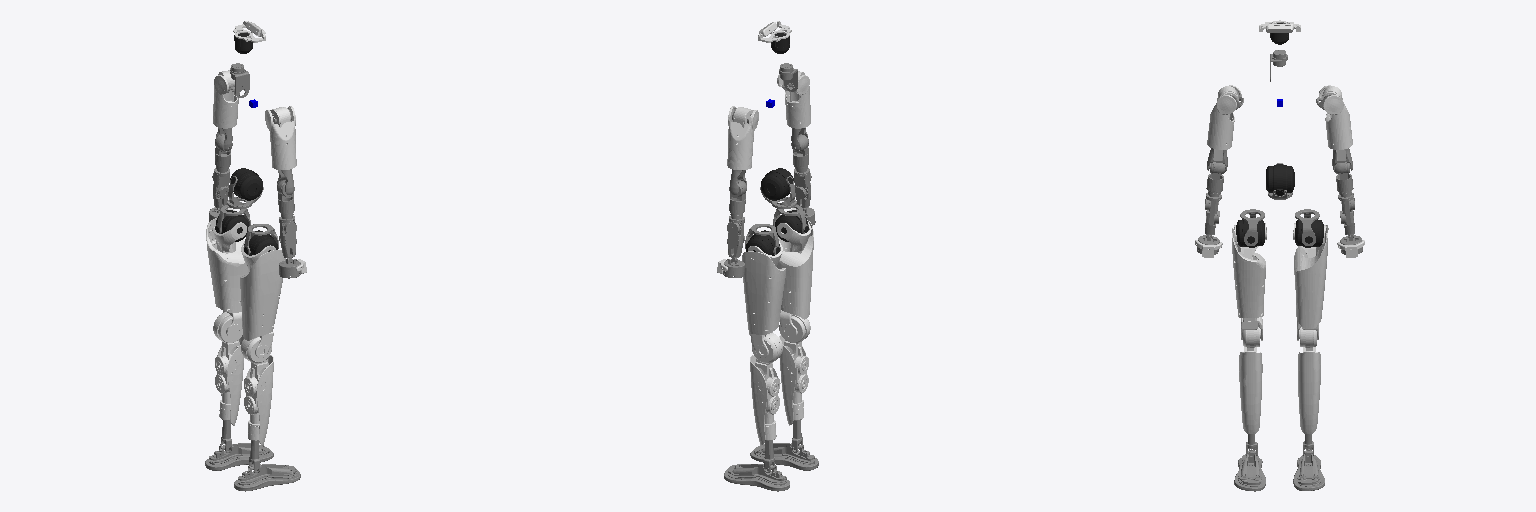
--- Render facts (derived) ---
The picture shows the robot from 3 angles, left to right: view 1: azimuth 30°, elevation 25°; view 2: azimuth 150°, elevation 25°; view 3: azimuth 270°, elevation 25°; orthographic projection.
Robot: t1pro — 39 links, 38 joints (23 revolute, 15 fixed); root link base_link; default pose: all joints at 0.
Links seen in each view (by area): view 1: leg_right_hip_pitch_link, leg_left_hip_pitch_link, leg_left_knee_link, leg_right_knee_link, arm_right_shoulder_roll_link, leg_right_ankle_pitch_link, arm_left_shoulder_roll_link, leg_left_ankle_pitch_link, torso_roll_link, arm_right_wrist_roll_link, arm_left_wrist_roll_link; view 2: leg_left_hip_pitch_link, leg_right_hip_pitch_link, leg_left_knee_link, leg_right_knee_link, arm_left_shoulder_roll_link, leg_left_ankle_pitch_link, arm_right_shoulder_roll_link, leg_right_ankle_pitch_link, torso_roll_link, arm_left_wrist_roll_link, arm_right_wrist_roll_link; view 3: leg_left_hip_pitch_link, leg_right_hip_pitch_link, leg_right_knee_link, leg_left_knee_link, arm_right_shoulder_roll_link, arm_left_shoulder_roll_link, leg_right_ankle_pitch_link, leg_left_ankle_pitch_link, torso_roll_link, arm_left_wrist_roll_link, arm_right_wrist_roll_link.
Boxes of the visible links, <box> form: leg_right_hip_pitch_link: <box>240,241,285,357</box>; leg_left_hip_pitch_link: <box>206,218,249,338</box>; leg_left_knee_link: <box>213,312,243,425</box>; leg_right_knee_link: <box>241,337,273,445</box>; arm_right_shoulder_roll_link: <box>265,106,296,169</box>; leg_right_ankle_pitch_link: <box>234,464,300,491</box>; arm_left_shoulder_roll_link: <box>213,70,238,128</box>; leg_left_ankle_pitch_link: <box>205,443,273,470</box>; torso_roll_link: <box>230,168,262,200</box>; arm_right_wrist_roll_link: <box>279,212,296,261</box>; arm_left_wrist_roll_link: <box>212,154,230,210</box>; leg_left_hip_pitch_link: <box>742,241,785,357</box>; leg_right_hip_pitch_link: <box>777,220,813,338</box>; leg_left_knee_link: <box>750,333,782,445</box>; leg_right_knee_link: <box>779,315,810,425</box>; arm_left_shoulder_roll_link: <box>727,106,758,169</box>; leg_left_ankle_pitch_link: <box>724,464,789,491</box>; arm_right_shoulder_roll_link: <box>777,71,810,128</box>; leg_right_ankle_pitch_link: <box>750,443,818,470</box>; torso_roll_link: <box>761,168,793,200</box>; arm_left_wrist_roll_link: <box>727,212,744,261</box>; arm_right_wrist_roll_link: <box>793,154,811,210</box>; leg_left_hip_pitch_link: <box>1293,223,1328,340</box>; leg_right_hip_pitch_link: <box>1232,223,1266,340</box>; leg_right_knee_link: <box>1239,327,1262,433</box>; leg_left_knee_link: <box>1298,327,1320,433</box>; arm_right_shoulder_roll_link: <box>1207,85,1241,149</box>; arm_left_shoulder_roll_link: <box>1319,85,1352,149</box>; leg_right_ankle_pitch_link: <box>1234,449,1265,491</box>; leg_left_ankle_pitch_link: <box>1293,449,1324,490</box>; torso_roll_link: <box>1266,164,1294,195</box>; arm_left_wrist_roll_link: <box>1337,188,1354,237</box>; arm_right_wrist_roll_link: <box>1205,188,1222,237</box>.
Bounding box of the posed robot: 0.2391 × 0.5452 × 1.6 m (x, y, z).
35 mesh visuals loaded from 38 distinct referenced files (35 binary STL); not drawn: 3 (reference not matched to a file when rendering).

robot.urdf — t1pro:
<?xml version="1.0" encoding="utf-8"?>

<robot name="t1pro">
  <material name="dark">
    <color rgba="0.2 0.2 0.2 1"/>
  </material>
  <material name="grey">
    <color rgba="0.6 0.6 0.6 1"/>
  </material>
  <material name="white">
    <color rgba="0.9 0.9 0.9 1"/>
  </material>

  <mujoco>
    <compiler meshdir="./meshes" discardvisual="false"/>
  </mujoco>

  <!--MUJOCO USE -->
  <!-- <link name="world"></link>
  <joint name="floating_base_joint" type="floating">
    <parent link="world"/>
    <child link="base_link"/>
  </joint> -->

<!-- link -->
  <link name="base_link">
    <inertial>
      <origin xyz="-0.01294606 -0.00133000 -0.00906342"/>
      <mass value="0.84000000"/>
      <inertia ixx="0.00397778" ixy="-0.00000002" ixz="-0.00001804" iyy="0.00275082" iyz="-0.00000002" izz="0.00472688"/>
    </inertial>
    <visual>
      <origin
        xyz="0 0 0"
        rpy="0 0 0" />
      <geometry>
        <mesh
          filename="./meshes/base_link.STL" />
      </geometry>
      <material name="white"/>
    </visual>
    <collision>
      <origin xyz="-0.035 0 0.017" rpy="1.57 0 0" /> 
      <geometry>
        <cylinder radius="0.025" length="0.25" />
      </geometry>
    </collision>
    <collision>
      <origin xyz="0.015 0 0.017" rpy="1.57 0 0" />
      <geometry>
        <cylinder radius="0.025" length="0.25" />
      </geometry>
    </collision>
    <collision>
      <origin xyz="-0.1 0.05 -0.005" rpy="0 0.3 0" />
      <geometry>
        <cylinder radius="0.03" length="0.1" />
      </geometry>
    </collision>
    <collision>
      <origin xyz="-0.1 -0.05 -0.005" rpy="0 0.3 0" />
      <geometry>
        <cylinder radius="0.03" length="0.1" />
      </geometry>
    </collision>
  </link>
 
  <link name="leg_left_hip_yaw_link">
    <inertial>
      <origin xyz="-0.00846627 0.00122011 -0.03373881"/>
      <mass value="0.11000000"/>
      <inertia ixx="0.00008206" ixy="-0.00000036" ixz="0.00000426" iyy="0.00014187" iyz="0.00000462" izz="0.00011593"/>
    </inertial>
    <visual>
      <origin
        xyz="0 0 0"
        rpy="0 0 0" />
      <geometry>
        <mesh
          filename="./meshes/leg_left_hip_yaw_link.STL" />
      </geometry>
      <material name="grey"/>
    </visual>
  </link>

  <link name="leg_left_hip_roll_link">
    <inertial>
      <origin xyz="0.00510741 -0.00001115 0.00001626"/>
      <mass value="2.45000000"/>
      <inertia ixx="0.00259256" ixy="-0.00000000" ixz="-0.00000000" iyy="0.00271310" iyz="-0.00000019" izz="0.00288499"/>
    </inertial>
    <visual>
      <origin
        xyz="0 0 0"
        rpy="0 0 0" />
      <geometry>
        <mesh
          filename="./meshes/leg_left_hip_roll_link.STL" />
      </geometry>
      <material name="dark"/>
    </visual>
    <collision>
      <origin
        xyz="0 0 0"
        rpy="0 0 0" />
      <geometry>
        <mesh
          filename="./meshes/leg_left_hip_roll_link.STL" />
      </geometry>
    </collision>
  </link>

  <link name="leg_left_hip_pitch_link">
    <inertial>
      <origin xyz="-0.01262975 0.01047040 -0.19123618"/>
      <mass value="0.88000000"/>
      <inertia ixx="0.01011408" ixy="0.00000040" ixz="0.00011303" iyy="0.01029143" iyz="0.00027531" izz="0.00150262"/>
    </inertial>
    <visual>
      <origin
        xyz="0 0 0"
        rpy="0 0 0" />
      <geometry>
        <mesh
          filename="./meshes/leg_left_hip_pitch_link.STL" />
      </geometry>
      <material name="white"/>
    </visual>
    <collision>
      <origin
        xyz="0 0 0"
        rpy="0 0 0" />
      <geometry>
        <mesh
          filename="./meshes/leg_left_hip_pitch_link.STL" />
      </geometry>
    </collision>
  </link>

  <link name="leg_left_knee_link">
    <inertial>
      <origin xyz="-0.00230509 0.00889453 -0.14517248"/>
      <mass value="4.07000000"/>
      <inertia ixx="0.04167356" ixy="-0.00005472" ixz="0.00253367" iyy="0.04272837" iyz="0.00044712" izz="0.00381187"/>
    </inertial>
    <visual>
      <origin
        xyz="0 0 0"
        rpy="0 0 0" />
      <geometry>
        <mesh
          filename="./meshes/leg_left_knee_link.STL" />
      </geometry>
      <material name="white"/>
    </visual>
    <collision>
      <origin
        xyz="0 0 0"
        rpy="0 0 0" />
      <geometry>
        <mesh
          filename="./meshes/leg_left_knee_link.STL" />
      </geometry>
    </collision>
  </link>
  
  <link name="leg_left_ankle_yaw_link">
    <inertial>
      <origin xyz="0.00013550 0.00001226 -0.06277698"/>
      <mass value="0.12000000"/>
      <inertia ixx="0.00014840" ixy="-0.00000000" ixz="0.00000000" iyy="0.00014447" iyz="0.00000000" izz="0.00002295"/>
    </inertial>
    <visual>
      <origin
        xyz="0 0 0"
        rpy="0 0 0" />
      <geometry>
        <mesh
          filename="./meshes/leg_left_ankle_yaw_link.STL" />
      </geometry>
      <material name="grey"/>
    </visual>
    <collision>
      <origin
        xyz="0 0 0"
        rpy="0 0 0" />
      <geometry>
        <mesh
          filename="./meshes/leg_left_ankle_yaw_link.STL" />
      </geometry>
    </collision>
  </link>

  <link name="leg_left_ankle_roll_link">
    <inertial>
      <origin xyz="-0.00000060 0.00000665 0.00000251"/>
      <mass value="0.01000000"/>
      <inertia ixx="0.00000053" ixy="-0.00000000" ixz="0.00000000" iyy="0.00000053" iyz="0.00000000" izz="0.00000085"/>
    </inertial>
    <visual>
      <origin
        xyz="0 0 0"
        rpy="0 0 0" />
      <geometry>
        <mesh
          filename="./meshes/leg_left_ankle_roll_link.STL" />
      </geometry>
      <material name="grey"/>
    </visual>
  </link>

  <link name="leg_left_ankle_pitch_link">
    <inertial>
      <origin xyz="0.05580080 0.00186246 -0.03893729"/>
      <mass value="0.46000000"/>
      <inertia ixx="0.00033117" ixy="0.00000266" ixz="0.00007354" iyy="0.00164194" iyz="0.00000210" izz="0.00174784"/>
    </inertial>
    <visual>
      <origin
        xyz="0 0 0"
        rpy="0 0 0" />
      <geometry>
        <mesh
          filename="./meshes/leg_left_ankle_pitch_link.STL" />
      </geometry>
      <material name="grey"/>
    </visual>
    <collision name="l_foot_1">
        <origin rpy="0 1.57079 0" xyz="0.05 -0.019 -0.045"/>
        <geometry>
            <cylinder length="0.22" radius="0.0175"/>
        </geometry>
    </collision>
    <collision name="l_foot_2">
        <origin rpy="0 1.57079 0" xyz="0.050 0.022 -0.045"/>
        <geometry>
            <cylinder length="0.22" radius="0.0175"/>
        </geometry>
    </collision>
  </link>

  <link name="leg_right_hip_yaw_link">
    <inertial>
      <origin xyz="-0.00687743 -0.00103540 -0.03303372"/>
      <mass value="0.11000000"/>
      <inertia ixx="0.00008206" ixy="0.00000036" ixz="0.00000426" iyy="0.00014187" iyz="-0.00000462" izz="0.00011592"/>
    </inertial>
    <visual>
      <origin
        xyz="0 0 0"
        rpy="0 0 0" />
      <geometry>
        <mesh
          filename="./meshes/leg_right_hip_yaw_link.STL" />
      </geometry>
      <material name="grey"/>
    </visual>
  </link>

  <link name="leg_right_hip_roll_link">
    <inertial>
      <origin xyz="0.00510741 -0.00001115 0.00001626"/>
      <mass value="2.45000000"/>
      <inertia ixx="0.00259256" ixy="-0.00000000" ixz="-0.00000000" iyy="0.00271310" iyz="-0.00000019" izz="0.00288499"/>
    </inertial>
    <visual>
      <origin
        xyz="0 0 0"
        rpy="0 0 0" />
      <geometry>
        <mesh
          filename="./meshes/leg_right_hip_roll_link.STL" />
      </geometry>
      <material name="dark"/>
    </visual>
    <collision>
      <origin
        xyz="0 0 0"
        rpy="0 0 0" />
      <geometry>
        <mesh
          filename="./meshes/leg_right_hip_roll_link.STL" />
      </geometry>
    </collision>
  </link>

  <link name="leg_right_hip_pitch_link">
    <inertial>
      <origin xyz="-0.00273136 -0.00987633 -0.19124229"/>
      <mass value="0.88000000"/>
      <inertia ixx="0.01014296" ixy="0.00001184" ixz="-0.00039992" iyy="0.01036368" iyz="-0.00026321" izz="0.00153900"/>
    </inertial>
    <visual>
      <origin
        xyz="0 0 0"
        rpy="0 0 0" />
      <geometry>
        <mesh
          filename="./meshes/leg_right_hip_pitch_link.STL" />
      </geometry>
      <material name="white"/>
    </visual>
    <collision>
      <origin
        xyz="0 0 0"
        rpy="0 0 0" />
      <geometry>
        <mesh
          filename="./meshes/leg_right_hip_pitch_link.STL" />
      </geometry>
    </collision>
  </link>

  <link name="leg_right_knee_link">
    <inertial>
      <origin xyz="-0.00231750 -0.00876759 -0.14527823"/>
      <mass value="4.07000000"/>
      <inertia ixx="0.04167327" ixy="0.00005473" ixz="0.00253365" iyy="0.04272806" iyz="-0.00044710" izz="0.00381188"/>
    </inertial>
    <visual>
      <origin
        xyz="0 0 0"
        rpy="0 0 0" />
      <geometry>
        <mesh
          filename="./meshes/leg_right_knee_link.STL" />
      </geometry>
      <material name="white"/>
    </visual>
    <collision>
      <origin
        xyz="0 0 0"
        rpy="0 0 0" />
      <geometry>
        <mesh
          filename="./meshes/leg_right_knee_link.STL" />
      </geometry>
    </collision>
  </link>

  <link name="leg_right_ankle_yaw_link">
    <inertial>
      <origin xyz="0.00004461 0.00002720 -0.06258300"/>
      <mass value="0.12000000"/>
      <inertia ixx="0.00014840" ixy="-0.00000000" ixz="-0.00000000" iyy="0.00014448" iyz="-0.00000000" izz="0.00002295"/>
    </inertial>
    <visual>
      <origin
        xyz="0 0 0"
        rpy="0 0 0" />
      <geometry>
        <mesh
          filename="./meshes/leg_right_ankle_yaw_link.STL" />
      </geometry>
      <material name="grey"/>
    </visual>
    <collision>
      <origin
        xyz="0 0 0"
        rpy="0 0 0" />
      <geometry>
        <mesh
          filename="./meshes/leg_right_ankle_yaw_link.STL" />
      </geometry>
    </collision>
  </link>

  <link name="leg_right_ankle_roll_link">
    <inertial>
      <origin xyz="-0.00000060 -0.00000341 0.00000251"/>
      <mass value="0.01000000"/>
      <inertia ixx="0.00000053" ixy="0.00000000" ixz="0.00000000" iyy="0.00000053" iyz="-0.00000000" izz="0.00000085"/>
    </inertial>
    <visual>
      <origin
        xyz="0 0 0"
        rpy="0 0 0" />
      <geometry>
        <mesh
          filename="./meshes/leg_right_ankle_roll_link.STL" />
      </geometry>
      <material name="grey"/>
    </visual>
  </link>

  <link name="leg_right_ankle_pitch_link">
    <inertial>
      <origin xyz="0.05582936 -0.00334412 -0.03869454"/>
      <mass value="0.46000000"/>
      <inertia ixx="0.00033112" ixy="0.00000051" ixz="0.00007359" iyy="0.00164198" iyz="0.00000248" izz="0.00174782"/>
    </inertial>
    <visual>
      <origin
        xyz="0 0 0"
        rpy="0 0 0" />
      <geometry>
        <mesh
          filename="./meshes/leg_right_ankle_pitch_link.STL" />
      </geometry>
      <material name="grey"/>
    </visual>
    <collision name="r_foot_1">
        <origin rpy="0 1.57079 0" xyz="0.05 0.019 -0.045"/>
        <geometry>
            <cylinder length="0.22" radius="0.0175"/>
        </geometry>
    </collision>
    <collision name="r_foot_2">
        <origin rpy="0 1.57079 0" xyz="0.050 -0.022 -0.045"/>
        <geometry>
            <cylinder length="0.22" radius="0.0175"/>
        </geometry>
    </collision>
  </link>

  <link name="torso_yaw_link">
    <inertial>
      <origin xyz="0.01864184 -0.00010510 0.02896716"/>
      <mass value="0.49000000"/>
      <inertia ixx="0.00038458" ixy="0.00000000" ixz="0.00001458" iyy="0.00063500" iyz="-0.00000000" izz="0.00050741"/>
    </inertial>
    <visual>
      <origin
        xyz="0 0 0"
        rpy="0 0 0" />
      <geometry>
        <mesh
          filename="./meshes/torso_yaw_link.STL" />
      </geometry>
      <material name="grey"/>
    </visual>
  </link>

  <link name="torso_roll_link">
    <inertial>
      <origin xyz="-0.00451651 -0.00000335 0.00001633"/>
      <mass value="2.45000000"/>
      <inertia ixx="0.00259256" ixy="-0.00000000" ixz="0.00000000" iyy="0.00271310" iyz="0.00000019" izz="0.00288499"/>
    </inertial>
    <visual>
      <origin
        xyz="0 0 0"
        rpy="0 0 0" />
      <geometry>
        <mesh
          filename="./meshes/torso_roll_link.STL" />
      </geometry>
      <material name="dark"/>
    </visual>
    <collision>
      <origin
        xyz="0 0 0"
        rpy="0 0 0" />
      <geometry>
        <mesh
          filename="./meshes/torso_roll_link.STL" />
      </geometry>
    </collision>
  </link>

  <link name="torso_pitch_link">
    <inertial>
      <origin xyz="0.00663089 -0.00029760 0.21524788"/>
      <mass value="9.05000000"/>
      <inertia ixx="0.10509875" ixy="0.00000436" ixz="0.00556251" iyy="0.08661967" iyz="0.00021838" izz="0.05501846"/>
    </inertial>
    <visual>
      <origin
        xyz="0 0 0"
        rpy="0 0 0" />
      <geometry>
        <mesh
          filename="./meshes/torso_pitch_link.STL" />
      </geometry>
      <material name="white"/>
    </visual>
    <collision>
      <origin
        xyz="0 0 0"
        rpy="0 0 0" />
      <geometry>
        <mesh
          filename="./meshes/torso_pitch_link.STL" />
      </geometry>
    </collision>
  </link>

  <link name="arm_left_shoulder_pitch_link">
    <inertial>
      <origin xyz="0.00155030 0.02461088 -0.00745565"/>
      <mass value="0.05000000"/>
      <inertia ixx="0.00002061" ixy="-0.00000104" ixz="0.00000006" iyy="0.00002282" iyz="0.00000262" izz="0.00002704"/>
    </inertial>
    <visual>
      <origin
        xyz="0 0 0"
        rpy="0 0 0" />
      <geometry>
        <mesh
          filename="./meshes/arm_left_shoulder_pitch_link.STL" />
      </geometry>
      <material name="grey"/>
    </visual>
    <collision>
      <origin
        xyz="0 0 0"
        rpy="0 0 0" />
      <geometry>
        <mesh
          filename="./meshes/arm_left_shoulder_pitch_link.STL" />
      </geometry>
    </collision>
  </link>

  <link name="arm_left_shoulder_roll_link">
    <inertial>
      <origin xyz="0.00711462 0.00201934 -0.03426092"/>
      <mass value="0.70000000"/>
      <inertia ixx="0.00233049" ixy="-0.00001234" ixz="-0.00003960" iyy="0.00237139" iyz="0.00014011" izz="0.00068034"/>
    </inertial>
    <visual>
      <origin
        xyz="0 0 0"
        rpy="0 0 0" />
      <geometry>
        <mesh
          filename="./meshes/arm_left_shoulder_roll_link.STL" />
      </geometry>
      <material name="white"/>
    </visual>
    <collision>
      <origin
        xyz="0 0.0215 -0.07" rpy="0 0 0" />
      <geometry>
        <cylinder length="0.06" radius="0.03" />
      </geometry>
    </collision>
  </link>

  <link name="arm_left_shoulder_yaw_link">
    <inertial>
      <origin xyz="-0.00018946 -0.00128494 -0.00163598"/>
      <mass value="0.50000000"/>
      <inertia ixx="0.00094334" ixy="0.00000001" ixz="0.00000178" iyy="0.00088933" iyz="0.00000014" izz="0.00018798"/>
    </inertial>
    <visual>
      <origin
        xyz="0 0 0"
        rpy="0 0 0" />
      <geometry>
        <mesh
          filename="./meshes/arm_left_shoulder_yaw_link.STL" />
      </geometry>
      <material name="grey"/>
    </visual>
    <collision>
      <origin
        xyz="0 0 0"
        rpy="0 0 0" />
      <geometry>
        <mesh
          filename="./meshes/arm_left_shoulder_yaw_link.STL" />
      </geometry>
    </collision>
  </link>

  <link name="arm_left_elbow_link">
    <inertial>
      <origin xyz="0.00200142 -0.00259926 0.00025621"/>
      <mass value="0.45000000"/>
      <inertia ixx="0.00016016" ixy="-0.00000343" ixz="0.00000000" iyy="0.00041731" iyz="-0.00000000" izz="0.00041898"/>
    </inertial>
    <visual>
      <origin
        xyz="0 0 0"
        rpy="0 0 0" />
      <geometry>
        <mesh
          filename="./meshes/arm_left_elbow_link.STL" />
      </geometry>
      <material name="grey"/>
    </visual>
    <collision>
      <origin
        xyz="0 0 0"
        rpy="0 0 0" />
      <geometry>
        <mesh
          filename="./meshes/arm_left_elbow_link.STL" />
      </geometry>
    </collision>
  </link>

  <link name="arm_left_wrist_roll_link">
    <inertial>
      <origin xyz="0.05048947 0.00173056 0.00055522"/>
      <mass value="1.15000000"/>
      <inertia ixx="0.00038247" ixy="0.00003482" ixz="-0.00000018" iyy="0.00310170" iyz="0.00000237" izz="0.00309710"/>
    </inertial>
    <visual>
      <origin
        xyz="0 0 0"
        rpy="0 0 0" />
      <geometry>
        <mesh
          filename="./meshes/arm_left_wrist_roll_link.STL" />
      </geometry>
      <material name="grey"/>
    </visual>
    <collision>
      <origin
        xyz="0 0 0"
        rpy="0 0 0" />
      <geometry>
        <mesh
          filename="./meshes/arm_left_wrist_roll_link.STL" />
      </geometry>
    </collision>
  </link>

  <link name="arm_left_wrist_pitch_link">
    <inertial>
      <origin xyz="0.01436040 0.00008939 0.00173942"/>
      <mass value="0.01000000"/>
      <inertia ixx="0.00000572" ixy="-0.00000000" ixz="0.00000011" iyy="0.00000498" iyz="0.00000000" izz="0.00000500"/>
    </inertial>
    <visual>
      <origin
        xyz="0 0 0"
        rpy="0 0 0" />
      <geometry>
        <mesh
          filename="./meshes/arm_left_wrist_pitch_link.STL" />
      </geometry>
      <material name="grey"/>
    </visual>
    <collision>
      <origin
        xyz="0 0 0"
        rpy="0 0 0" />
      <geometry>
        <mesh
          filename="./meshes/arm_left_wrist_pitch_link.STL" />
      </geometry>
    </collision>
  </link>

  <link name="arm_left_wrist_yaw_link">
    <inertial>
      <origin xyz="-0.00001237 -0.00000012 0.00000000"/>
      <mass value="0.01000000"/>
      <inertia ixx="0.00000033" ixy="-0.00000000" ixz="0.00000000" iyy="0.00000014" iyz="0.00000000" izz="0.00000026"/>
    </inertial>
    <visual>
      <origin
        xyz="0 0 0"
        rpy="0 0 0" />
      <geometry>
        <mesh
          filename="./meshes/arm_left_wrist_yaw_link.STL" />
      </geometry>
      <material name="grey"/>
    </visual>
    <collision>
      <origin xyz="0.03 0 0" rpy="0 1.57 0" />
      <geometry>
        <cylinder length="0.03" radius="0.03" />
      </geometry>
    </collision>
  </link>

  <link name="arm_left_arco1_link">
    <inertial>
      <origin xyz="0 0 0"/>
      <mass value="0.10000000"/>
      <inertia ixx="1E-06" ixy="0." ixz="0." iyy="1E-06" iyz="0." izz="1E-06"/>
    </inertial>
    <visual>
      <origin
        xyz="0 0 0"
        rpy="0 0 0" />
      <geometry>
        <mesh
          filename="./meshes/arm_left_arco1_link.STL" />
      </geometry>
      <material name="white"/>
    </visual>
    <collision>
      <origin
        xyz="0 0 0"
        rpy="0 0 0" />
      <geometry>
        <mesh
          filename="./meshes/arm_left_arco1_link.STL" />
      </geometry>
    </collision>
  </link>

  <link name="arm_right_shoulder_pitch_link">
    <inertial>
      <origin xyz="0.00155799 -0.02460596 -0.00741525"/>
      <mass value="0.05000000"/>
      <inertia ixx="0.00002061" ixy="0.00000104" ixz="0.00000006" iyy="0.00002282" iyz="-0.00000262" izz="0.00002704"/>
    </inertial>
    <visual>
      <origin
        xyz="0 0 0"
        rpy="0 0 0" />
      <geometry>
        <mesh
          filename="./meshes/arm_right_shoulder_pitch_link.STL" />
      </geometry>
      <material name="grey"/>
    </visual>
    <collision>
      <origin
        xyz="0 0 0"
        rpy="0 0 0" />
      <geometry>
        <mesh
          filename="./meshes/arm_right_shoulder_pitch_link.STL" />
      </geometry>
    </collision>
  </link>

  <link name="arm_right_shoulder_roll_link">
    <inertial>
      <origin xyz="0.00785247 -0.00201613 -0.03425718"/>
      <mass value="0.70000000"/>
      <inertia ixx="0.00233049" ixy="0.00001234" ixz="-0.00003960" iyy="0.00237139" iyz="-0.00014011" izz="0.00068034"/>
    </inertial>
    <visual>
      <origin
        xyz="0 0 0"
        rpy="0 0 0" />
      <geometry>
        <mesh
          filename="./meshes/arm_right_shoulder_roll_link.STL" />
      </geometry>
      <material name="white"/>
    </visual>
    <collision>
      <origin
        xyz="0 -0.0215 -0.07" rpy="0 0 0" />
      <geometry>
        <cylinder length="0.06" radius="0.03" />
      </geometry>
    </collision>
  </link>

  <link name="arm_right_shoulder_yaw_link">
    <inertial>
      <origin xyz="-0.00017325 0.00129920 -0.00175633"/>
      <mass value="0.50000000"/>
      <inertia ixx="0.00094334" ixy="-0.00000001" ixz="0.00000178" iyy="0.00088933" iyz="-0.00000014" izz="0.00018798"/>
    </inertial>
    <visual>
      <origin
        xyz="0 0 0"
        rpy="0 0 0" />
      <geometry>
        <mesh
          filename="./meshes/arm_right_shoulder_yaw_link.STL" />
      </geometry>
      <material name="grey"/>
    </visual>
    <collision>
      <origin
        xyz="0 0 0"
        rpy="0 0 0" />
      <geometry>
        <mesh
          filename="./meshes/arm_right_shoulder_yaw_link.STL" />
      </geometry>
    </collision>
  </link>

  <link name="arm_right_elbow_link">
    <inertial>
      <origin xyz="0.00125995 0.00174008 0.00017947"/>
      <mass value="0.45000000"/>
      <inertia ixx="0.00016046" ixy="0.00000289" ixz="0.00000000" iyy="0.00041721" iyz="0.00000000" izz="0.00041936"/>
    </inertial>
    <visual>
      <origin
        xyz="0 0 0"
        rpy="0 0 0" />
      <geometry>
        <mesh
          filename="./meshes/arm_right_elbow_link.STL" />
      </geometry>
      <material name="grey"/>
    </visual>
    <collision>
      <origin
        xyz="0 0 0"
        rpy="0 0 0" />
      <geometry>
        <mesh
          filename="./meshes/arm_right_elbow_link.STL" />
      </geometry>
    </collision>
  </link>

  <link name="arm_right_wrist_roll_link">
    <inertial>
      <origin xyz="0.04411687 -0.00143197 -0.00041271"/>
      <mass value="1.15000000"/>
      <inertia ixx="0.00038174" ixy="-0.00003394" ixz="-0.00000019" iyy="0.00310525" iyz="-0.00000237" izz="0.00309959"/>
    </inertial>
    <visual>
      <origin
        xyz="0 0 0"
        rpy="0 0 0" />
      <geometry>
        <mesh
          filename="./meshes/arm_right_wrist_roll_link.STL" />
      </geometry>
      <material name="grey"/>
    </visual>
    <collision>
      <origin
        xyz="0 0 0"
        rpy="0 0 0" />
      <geometry>
        <mesh
          filename="./meshes/arm_right_wrist_roll_link.STL" />
      </geometry>
    </collision>
  </link>

  <link name="arm_right_wrist_pitch_link">
    <inertial>
      <origin xyz="0.01433754 0.00009967 0.00172320"/>
      <mass value="0.01000000"/>
      <inertia ixx="0.00000572" ixy="-0.00000000" ixz="0.00000011" iyy="0.00000498" iyz="0.00000000" izz="0.00000500"/>
    </inertial>
    <visual>
      <origin
        xyz="0 0 0"
        rpy="0 0 0" />
      <geometry>
        <mesh
          filename="./meshes/arm_right_wrist_pitch_link.STL" />
      </geometry>
      <material name="grey"/>
    </visual>
  </link>

  <link name="arm_right_wrist_yaw_link">
    <inertial>
      <origin xyz="-0.00001370 0.00000009 0.00000000"/>
      <mass value="0.01000000"/>
      <inertia ixx="0.00000033" ixy="0.00000000" ixz="-0.00000000" iyy="0.00000014" iyz="-0.00000000" izz="0.00000026"/>
    </inertial>
    <visual>
      <origin
        xyz="0 0 0"
        rpy="0 0 0" />
      <geometry>
        <mesh
          filename="./meshes/arm_right_wrist_yaw_link.STL" />
      </geometry>
      <material name="grey"/>
    </visual>
    <collision>
      <origin xyz="0.03 0 0" rpy="0 1.57 0" />
      <geometry>
        <cylinder length="0.03" radius="0.03" />
      </geometry>
    </collision>
  </link>

  <link name="arm_right_arco2_link">
    <inertial>
      <origin xyz="0 0 0"/>
      <mass value="0.10000000"/>
      <inertia ixx="1E-06" ixy="0." ixz="0." iyy="1E-06" iyz="0." izz="1E-06"/>
    </inertial>
    <visual>
      <origin
        xyz="0 0 0"
        rpy="0 0 0" />
      <geometry>
        <mesh
          filename="./meshes/arm_right_arco2_link.STL" />
      </geometry>
      <material name="white"/>
    </visual>
    <collision>
      <origin
        xyz="0 0 0"
        rpy="0 0 0" />
      <geometry>
        <mesh
          filename="./meshes/arm_right_arco2_link.STL" />
      </geometry>
    </collision>
  </link>

  <link name="head_pitch_link">
    <inertial>
      <origin xyz="0.02430700 -0.00023690 0.11122000"/>
      <mass value="0.36000000"/>
      <inertia ixx="0.00237035" ixy="0" ixz="0" iyy="0.00244517" iyz="0" izz="0.00101965"/>
    </inertial>
    <visual>
      <origin
        xyz="0 0 0"
        rpy="0 0 0" />
      <geometry>
        <mesh
          filename="./meshes/head_pitch_link.STL" />
      </geometry>
      <material name="grey"/>
    </visual>
  </link>

  <link name="head_yaw_link">
    <inertial>
      <origin xyz="-0.00008726 0.01958969 0.05593227"/>
      <mass value="0.36000000"/>
      <inertia ixx="0.00027719" ixy="0" ixz="0" iyy="0.00026829" iyz="0" izz="0.00013959"/>
    </inertial>
    <visual>
      <origin
        xyz="0 0 0"
        rpy="0 0 0" />
      <geometry>
        <mesh
          filename="./meshes/head_yaw_link.STL" />
      </geometry>
      <material name="dark"/>
    </visual>
  </link>

  <link name="head_lidar_link">
    <inertial>
      <origin xyz="0 0 0"/>
      <mass value="0.10000000"/>
      <inertia ixx="1E-06" ixy="0." ixz="0." iyy="1E-06" iyz="0." izz="1E-06"/>
    </inertial>
    <visual>
      <origin
        xyz="0 0 0"
        rpy="0 0 0" />
      <geometry>
        <mesh
          filename="./meshes/head_lidar_link.STL" />
      </geometry>
      <material name="dark"/>
    </visual>
    <collision>
      <origin
        xyz="0 0 0"
        rpy="0 0 0" />
      <geometry>
        <mesh
          filename="./meshes/head_lidar_link.STL" />
      </geometry>
    </collision>
  </link>

  <link name="head_camera_link">
    <inertial>
      <origin xyz="0 0 0"/>
      <mass value="0.10000000"/>
      <inertia ixx="1E-06" ixy="0." ixz="0." iyy="1E-06" iyz="0." izz="1E-06"/>
    </inertial>
    <visual>
      <origin
        xyz="0 0 0"
        rpy="0 0 0" />
      <geometry>
        <mesh
          filename="./meshes/head_camera_link.STL" />
      </geometry>
      <material name="white"/>
    </visual>
    <collision>
      <origin
        xyz="0 0 0"
        rpy="0 0 0" />
      <geometry>
        <mesh
          filename="./meshes/head_camera_link.STL" />
      </geometry>
    </collision>
  </link>

<!-- joint -->
  <joint name="leg_left_hip_yaw_joint"
    type="revolute">
    <origin
      xyz="-0.0259999999999999 0.0869999999999999 -0.018"
      rpy="0 0 -0.0098" />
    <parent
      link="base_link" />
    <child
      link="leg_left_hip_yaw_link" />
    <axis xyz="0 0 1" />
    <limit lower="-0.5236" upper="1.0472" effort="80" velocity="12.5664"/>
  </joint>

  <joint name="leg_left_hip_roll_joint"
    type="revolute">
    <origin
      xyz="0.000489751391723164 0.00600000000000005 -0.0629999999999999"
      rpy="-0.0619564709609011 0 0" />
    <parent
      link="leg_left_hip_yaw_link" />
    <child
      link="leg_left_hip_roll_link" />
    <axis xyz="1 0 0" />
    <limit lower="-0.4363" upper="0.7854" effort="100" velocity="12.5664"/>
  </joint>
  
  <joint name="leg_left_hip_pitch_joint"
    type="revolute">
    <origin
      xyz="0.000750248608276799 0.000605000000000036 0"
      rpy="0 0. 0" />
    <parent
      link="leg_left_hip_roll_link" />
    <child
      link="leg_left_hip_pitch_link" />
    <axis xyz="0 -1 0" />
    <limit lower="-0.4363" upper="2.4784" effort="200" velocity="12.5664"/>
  </joint>
  
  <joint name="leg_left_knee_joint"
    type="revolute">
    <origin
      xyz="-0.0155417089361511 0.0150331253243574 -0.358535077331427"
      rpy="0.0610703358043324 0.0679291378751921 -0.000232036157788874" />
    <parent
      link="leg_left_hip_pitch_link" />
    <child
      link="leg_left_knee_link" />
    <axis xyz="0 1 0" />
    <limit lower="-0.1745" upper="2.4784" effort="150" velocity="12.5664"/>
  </joint>
  
  <joint name="leg_left_ankle_yaw_joint"
    type="fixed">
    <origin
      xyz="0.0157752516698511 0.0044999999999904 -0.318442600848389"
      rpy="-0.000321953656133406 -0.0227352696248076 0.0141612519385328" />
    <parent
      link="leg_left_knee_link" />
    <child
      link="leg_left_ankle_yaw_link" />
    <axis xyz="0 0 1" />
    <limit lower="-0.4363" upper="0.4363" effort="44" velocity="12.5664"/>
  </joint>
  
  <joint name="leg_left_ankle_roll_joint"
    type="revolute">
    <origin
      xyz="0 0 -0.108999999999999"
      rpy="0 -0.0457006003544919 0" />
    <parent
      link="leg_left_ankle_yaw_link" />
    <child
      link="leg_left_ankle_roll_link" />
    <axis xyz="1 0 0" />
    <limit lower="-0.4363" upper="0.4363" effort="40" velocity="12.5664"/>
  </joint>
  
  <joint name="leg_left_ankle_pitch_joint"
    type="revolute">
    <origin
      xyz="0 0 0"
      rpy="0 0 0" />
    <parent
      link="leg_left_ankle_roll_link" />
    <child
      link="leg_left_ankle_pitch_link" />
    <axis xyz="0 -1 0" />
    <limit lower="-0.3491" upper="0.9599" effort="80" velocity="12.5664"/>
  </joint>
  
  <joint name="leg_right_hip_yaw_joint"
    type="revolute">
    <origin
      xyz="-0.0259999999999999 -0.087 -0.018"
      rpy="0 0 0.011722" />
    <parent
      link="base_link" />
    <child
      link="leg_right_hip_yaw_link" />
    <axis xyz="0 0 -1" />
    <limit lower="-0.5236" upper="1.0472" effort="80" velocity="12.5664"/>
  </joint>
  
  <joint name="leg_right_hip_roll_joint"
    type="revolute">
    <origin
      xyz="0.000489751391723123 -0.00599999999999999 -0.0630000000000001"
      rpy="0.0591101394577824 0 0" />
    <parent
      link="leg_right_hip_yaw_link" />
    <child
      link="leg_right_hip_roll_link" />
    <axis xyz="-1 0 0" />
    <limit lower="-0.4363" upper="0.7854" effort="100" velocity="12.5664"/>
  </joint>
  
  <joint name="leg_right_hip_pitch_joint"
    type="revolute">
    <origin
      xyz="0.000750759193959089 -0.000604901916947675 0"
      rpy="0 0. 0" />
    <parent
      link="leg_right_hip_roll_link" />
    <child
      link="leg_right_hip_pitch_link" />
    <axis xyz="0 -1 0" />
    <limit lower="-0.4363" upper="2.4784" effort="200" velocity="12.5664"/>
  </joint>
  
  <joint name="leg_right_knee_joint"
    type="revolute">
    <origin
      xyz="-0.0155422638781333 -0.0141135849063489 -0.358570518962616"
      rpy="-0.0582174221819463 0.0659340042627604 0.000502788875741451" />
    <parent
      link="leg_right_hip_pitch_link" />
    <child
      link="leg_right_knee_link" />
    <axis xyz="0 1 0" />
    <limit lower="-0.1745" upper="2.4784" effort="150" velocity="12.5664"/>  
  </joint>
  
  <joint name="leg_right_ankle_yaw_joint"
    type="fixed">
    <origin
      xyz="0.0157752516698511 -0.00439999999999016 -0.318442600848389"
      rpy="0.000368137477826658 -0.0227345688183624 -0.0161928309452287" />
    <parent
      link="leg_right_knee_link" />
    <child
      link="leg_right_ankle_yaw_link" />
    <axis xyz="0 0 -1" />
    <limit lower="-0.4363" upper="0.4363" effort="44" velocity="12.5664"/>
  </joint>

  <joint name="leg_right_ankle_roll_joint"
    type="revolute">
    <origin
      xyz="0 0 -0.109"
      rpy="0 -0.0436551110970685 0" />
    <parent
      link="leg_right_ankle_yaw_link" />
    <child
      link="leg_right_ankle_roll_link" />
    <axis xyz="-1 0 0" />
    <limit lower="-0.4363" upper="0.4363" effort="40" velocity="12.5664"/>
  </joint>
  
  <joint name="leg_right_ankle_pitch_joint"
    type="revolute">
    <origin
      xyz="0 0 0"
      rpy="0 0 0" />
    <parent
      link="leg_right_ankle_roll_link" />
    <child
      link="leg_right_ankle_pitch_link" />
    <axis xyz="0 -1 0" />
    <limit lower="-0.3491" upper="0.9599" effort="80" velocity="12.5664"/>
  </joint>
  
  <joint name="torso_yaw_joint"
    type="revolute">
    <origin
      xyz="-0.0520000000000015 0 0.0412000000000005"
      rpy="0 0 0" />
    <parent
      link="base_link" />
    <child
      link="torso_yaw_link" />
    <axis xyz="0 0 1" />
    <limit lower="-0.2618" upper="0.2618" effort="73" velocity="12.5664"/>
  </joint>
  
  <joint name="torso_roll_joint"
    type="revolute">
    <origin
      xyz="0.0254259774850294 0 0.0647197965329241"
      rpy="0 0.471238898038439 0" />
    <parent
      link="torso_yaw_link" />
    <child
      link="torso_roll_link" />
    <axis xyz="1 0 0" />
    <limit lower="-0.5" upper="0.5" effort="100" velocity="12.5664"/>
  </joint>
  
  <joint name="torso_pitch_joint"
    type="revolute">
    <origin
      xyz="0 0 0"
      rpy="0 -0.471238898038463 0" />
    <parent
      link="torso_roll_link" />
    <child
      link="torso_pitch_link" />
    <axis xyz="0 1 0" />
    <limit lower="-0.5" upper="1.0" effort="200" velocity="12.5664"/>
  </joint>
  
  <joint name="arm_left_shoulder_pitch_joint"
    type="revolute">
    <origin
      xyz="0.0260009722935461 0.132808905845859 0.27695449458031"
      rpy="0.904984457434969 0.025483291008616 -0.109858729621343" />
    <parent
      link="torso_pitch_link" />
    <child
      link="arm_left_shoulder_pitch_link" />
    <axis xyz="0 -1 0" />
    <limit lower="-1.0472" upper="3.0" effort="96" velocity="7.854"/>
  </joint>
  
  <joint name="arm_left_shoulder_roll_joint"
    type="revolute">
    <origin
      xyz="-0.0032019867948581 0.0380000000000001 -0.0110717141411563"
      rpy="-0.805937979737182 -0.0215924121529237 0" />
    <parent
      link="arm_left_shoulder_pitch_link" />
    <child
      link="arm_left_shoulder_roll_link" />
    <axis xyz="1 0 0" />
    <limit lower="0" upper="3.0" effort="96" velocity="7.854"/>
  </joint>

  <joint name="arm_left_shoulder_yaw_joint"
    type="revolute">
    <origin
      xyz="0.00250000000000075 0.012 -0.161"
      rpy="0 0 0.127315902281416" />
    <parent
      link="arm_left_shoulder_roll_link" />
    <child
      link="arm_left_shoulder_yaw_link" />
    <axis xyz="0  0 1" />
    <limit lower="-3.0" upper="3.0" effort="56" velocity="7.854"/>
  </joint>
  
  <joint name="arm_left_elbow_joint"
    type="revolute">
    <origin
      xyz="0 -0.00119999999999998 -0.0825"
      rpy="0 1.5707 0" />
    <parent
      link="arm_left_shoulder_yaw_link" />
    <child
      link="arm_left_elbow_link" />
    <axis xyz="0 -1 0" />
    <limit lower="-1.7445" upper="1.048" effort="56" velocity="7.854"/>
  </joint>
  
  <joint name="arm_left_wrist_roll_joint"
    type="fixed">
    <origin
      xyz="0.0924999999999992 0.00122644118671736 0"
      rpy="0 0 0" />
    <parent
      link="arm_left_elbow_link" />
    <child
      link="arm_left_wrist_roll_link" />
    <axis xyz="-1 0 0" />
    <limit lower="-1.3963" upper="1.3963" effort="30" velocity="7.854"/>
  </joint>
  
  <joint name="arm_left_wrist_pitch_joint"
    type="fixed">
    <origin
      xyz="0.15385 0 0"
      rpy="0 0 0" />
    <parent
      link="arm_left_wrist_roll_link" />
    <child
      link="arm_left_wrist_pitch_link" />
    <axis xyz="0 -1 0" />
    <limit lower="-0.5" upper="0.5" effort="30" velocity="7.854"/>
  </joint>

  <joint name="arm_left_wrist_yaw_joint"
    type="fixed">
    <origin
      xyz="0 0 0"
      rpy="0 0 0" />
    <parent
      link="arm_left_wrist_pitch_link" />
    <child
      link="arm_left_wrist_yaw_link" />
    <axis xyz="0 0 -1" />
    <limit lower="0" upper="3.0" effort="96" velocity="7.854"/>
  </joint>

  <joint name="arm_left_arco1_link"
    type="fixed">
    <origin
      xyz="0.0334779737215878 0 0.0508999999999998"
      rpy="0 0 0" />
    <parent
      link="arm_left_wrist_yaw_link" />
    <child
      link="arm_left_arco1_link" />
  </joint>
  
  <joint name="arm_right_shoulder_pitch_joint"
    type="revolute">
    <origin
      xyz="0.0260009722935477 -0.132808905845853 0.276954494580311"
      rpy="-0.904984457434972 0.02614283291008599 0.109858729621354" />
    <parent
      link="torso_pitch_link" />
    <child
      link="arm_right_shoulder_pitch_link" />
    <axis xyz="0 -1 0" />
    <limit lower="0" upper="3.0" effort="96" velocity="7.854"/>
  </joint>

  <joint name="arm_right_shoulder_roll_joint"
    type="revolute">
    <origin
      xyz="-0.00395181196455249 -0.0380000000000003 -0.0110879071919155"
      rpy="0.804937979737182 -0.0215924121529236 0" />
    <parent
      link="arm_right_shoulder_pitch_link" />
    <child
      link="arm_right_shoulder_roll_link" />
    <axis xyz="-1 0 0" />
    <limit lower="-0.1" upper="3." effort="56" velocity="7.854"/>
  </joint>

  <joint name="arm_right_shoulder_yaw_joint"
    type="revolute">
    <origin
      xyz="0.00325000000000099 -0.0120000000000001 -0.161"
      rpy="0 0 -0.127315902281415" />
    <parent
      link="arm_right_shoulder_roll_link" />
    <child
      link="arm_right_shoulder_yaw_link" />
    <axis xyz="0 0 -1" />
    <limit lower="-3.0" upper="3.0" effort="56" velocity="7.854"/>
  </joint>
  
  <joint name="arm_right_elbow_joint"
    type="revolute">
    <origin
      xyz="0 0.00119999999999998 -0.0825"
      rpy="0 1.5707 0" />
    <parent
      link="arm_right_shoulder_yaw_link" />
    <child
      link="arm_right_elbow_link" />
    <axis xyz="0 -1 0" />
    <limit lower="-1.7445" upper="1.048" effort="56" velocity="7.854"/>
  </joint>
  
  <joint name="arm_right_wrist_roll_joint"
    type="fixed">
    <origin
      xyz="0.0925000000000001 -0.00122644118671808 0"
      rpy="0 0 0" />
    <parent
      link="arm_right_elbow_link" />
    <child
      link="arm_right_wrist_roll_link" />
    <axis xyz="1 0 0" />
    <limit lower="-1.3963" upper="1.3963" effort="30" velocity="7.854"/>
  </joint>
  
  <joint name="arm_right_wrist_pitch_joint"
    type="fixed">
    <origin
      xyz="0.15385 0 0"
      rpy="0 0 0" />
    <parent
      link="arm_right_wrist_roll_link" />
    <child
      link="arm_right_wrist_pitch_link" />
    <axis xyz="0 1 0" />
    <limit lower="-0.5" upper="0.5" effort="30" velocity="7.854"/>
  </joint>

  <joint name="arm_right_wrist_yaw_joint"
    type="fixed">
    <origin
      xyz="0 0 0"
      rpy="0 0 0" />
    <parent
      link="arm_right_wrist_pitch_link" />
    <child
      link="arm_right_wrist_yaw_link" />
    <axis xyz="0 0 1" />
    <limit lower="-0.5" upper="0.5" effort="30" velocity="7.854"/>
  </joint>

  <joint name="arm_right_arco2_link"
    type="fixed">
    <origin
      xyz="0.033477973721586 0 0.0509000000000004"
      rpy="0 0 0" />
    <parent
      link="arm_right_wrist_yaw_link" />
    <child
      link="arm_right_arco2_link" />
  </joint>

  <joint name="head_pitch_joint"
    type="fixed">
    <origin
      xyz="-0.0333648966088895 -0.0279999999999983 0.347502483875931"
      rpy="0 0.0005913016255697 0" />
    <parent
      link="torso_pitch_link" />
    <child
      link="head_pitch_link" />
    <axis xyz="0 1 0" />
    <limit lower="-0.7854" upper="0.7854" effort="30" velocity="7.854"/>
  </joint>

  <joint name="head_yaw_joint"
    type="fixed">
    <origin
      xyz="-6.56059731063835E-05 0.027 0.0849999746815038"
      rpy="0 -0.000771835054355828 0" />
    <parent
      link="head_pitch_link" />
    <child
      link="head_yaw_link" />
    <axis xyz="0 0 1" />
    <limit lower="-1.3963" upper="1.3963" effort="30" velocity="7.854"/>
  </joint>

  <joint name="head_lidar_joint"
    type="fixed">
    <origin
      xyz="0.0227497429784871 0 0.0503328784327832"
      rpy="0 0 0" />
    <parent
      link="head_yaw_link" />
    <child
      link="head_lidar_link" />
  </joint>
  
  <joint name="head_camera_joint"
    type="fixed">
    <origin
      xyz="0.0393665726029786 -4.01935565863842E-05 0.053439144713368"
      rpy="0 0.375244929547359 0" />
    <parent
      link="head_lidar_link" />
    <child
      link="head_camera_link" />
  </joint>
  <!-- sensor -->
  <link name="upper_imu_link">
    <inertial>
      <origin xyz="0. 0. 0." />
      <mass value="0.01000000"/>
      <inertia ixx="1E-6" ixy="0." ixz="0." iyy="1E-6" iyz="0." izz="1E-6"/>
    </inertial>
    <visual>
      <geometry>
        <box size="0.02 0.02 0.02"/>
      </geometry>
      <origin xyz="0 0 0" rpy="0 0 0"/> 
      <material name="t1">
        <color rgba="0 0 1 1" />
      </material>
    </visual>
  </link>
  <joint name="upper_imu_joint" type="fixed" dont_collapse="true">
    <origin xyz="0.06 0 -0.15" rpy="0 0 0" />
    <parent link="head_yaw_link" />
    <child link="upper_imu_link" />
  </joint>
</robot>
